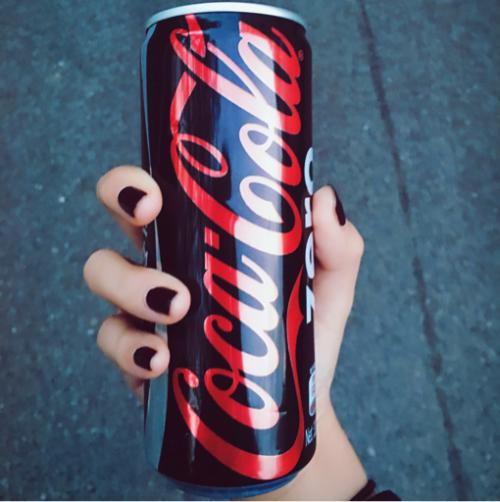coke_zero: (117, 1, 343, 500)
